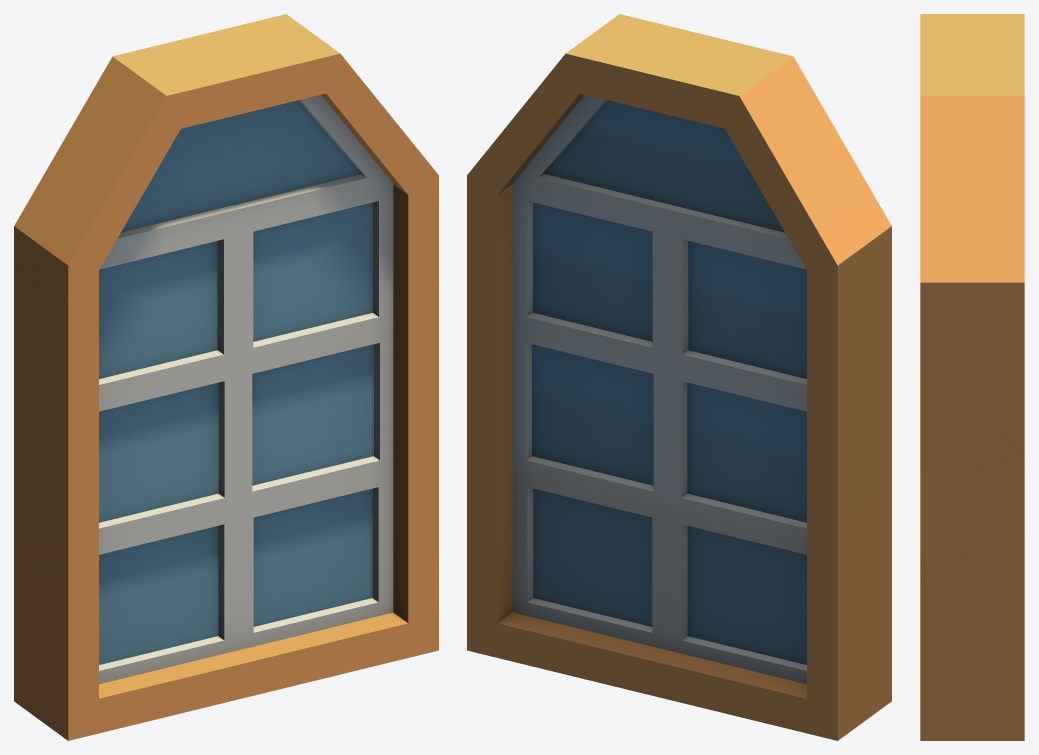
The model's file is adb3a9a0-84d9-456a-a7ca-1def12f54af8.glb.
3 renders of one model, left to right at view 1: azimuth 30°, elevation 25°; view 2: azimuth 150°, elevation 25°; view 3: azimuth 270°, elevation 25°, orthographic. The views are drawn at different scales.
Parts seen in each view (by area): view 1: window; view 2: window; view 3: window.
Part boxes in pixels (x1=…): window: x1=14, y1=14, x2=438, y2=740; window: x1=467, y1=14, x2=891, y2=740; window: x1=920, y1=14, x2=1024, y2=740.
Bounding box in the file's own units: 1.12 × 1.79 × 0.2826.
3 materials, 3 textured.
